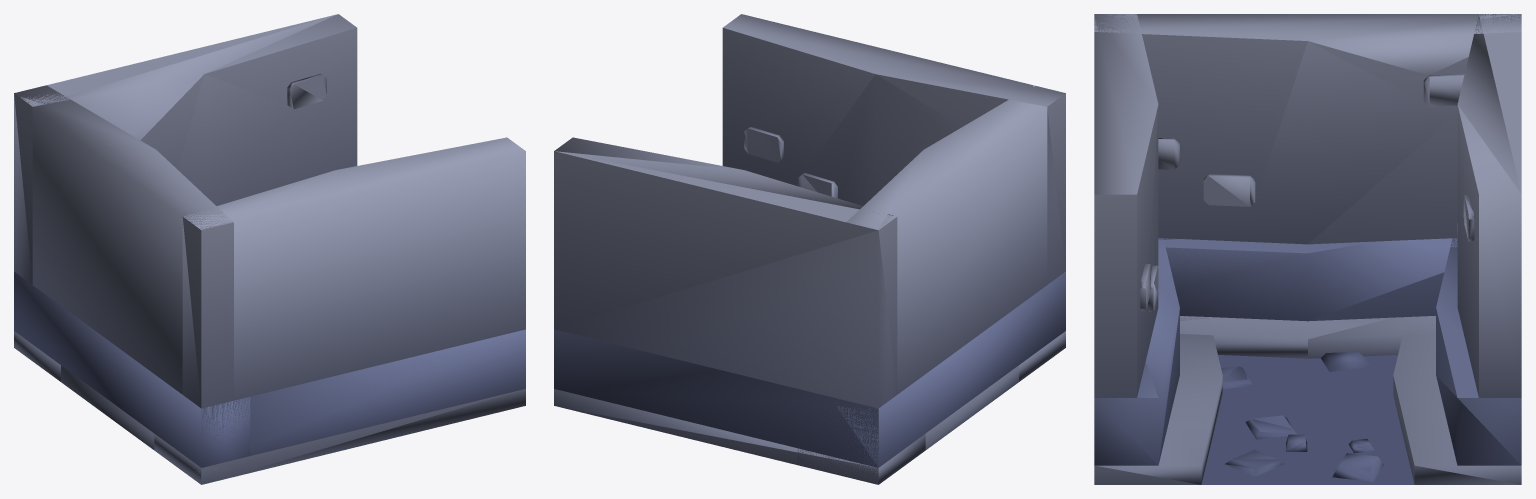
The model's file is corridor-end_lev2.glb.
3 renders of one model, left to right at view 1: azimuth 30°, elevation 25°; view 2: azimuth 150°, elevation 25°; view 3: azimuth 270°, elevation 25°, orthographic. The views are drawn at different scales.
Visible parts, largest first — view 1: corridor-end_lev2; view 2: corridor-end_lev2; view 3: corridor-end_lev2.
Boxes of the visible parts, left/top/right/bottom form: corridor-end_lev2: left=14, top=14, right=525, bottom=484; corridor-end_lev2: left=554, top=14, right=1065, bottom=484; corridor-end_lev2: left=1094, top=14, right=1521, bottom=484.
Size of the model in its own units: 4 by 3 by 4.
1 material, 1 textured.
